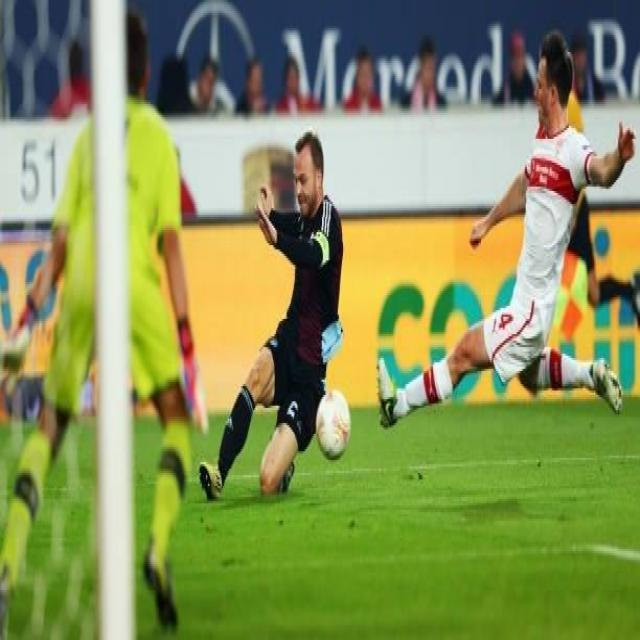ball: (313, 384, 354, 465)
player: (0, 35, 206, 621), (371, 42, 635, 441), (195, 128, 346, 497)
